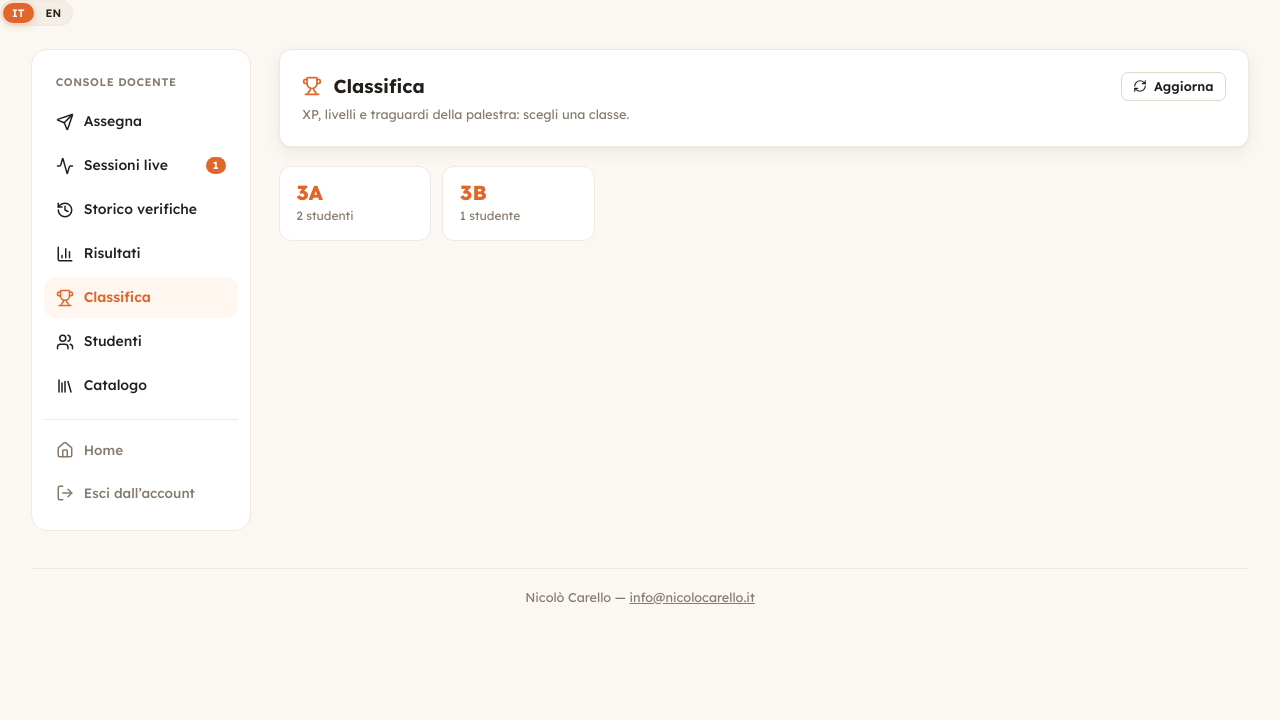
Test: console docente — Classifica › apre il dettaglio di uno studente
Click the button "3A 2 studenti".
click(355, 204)  # box [279,166,431,241]
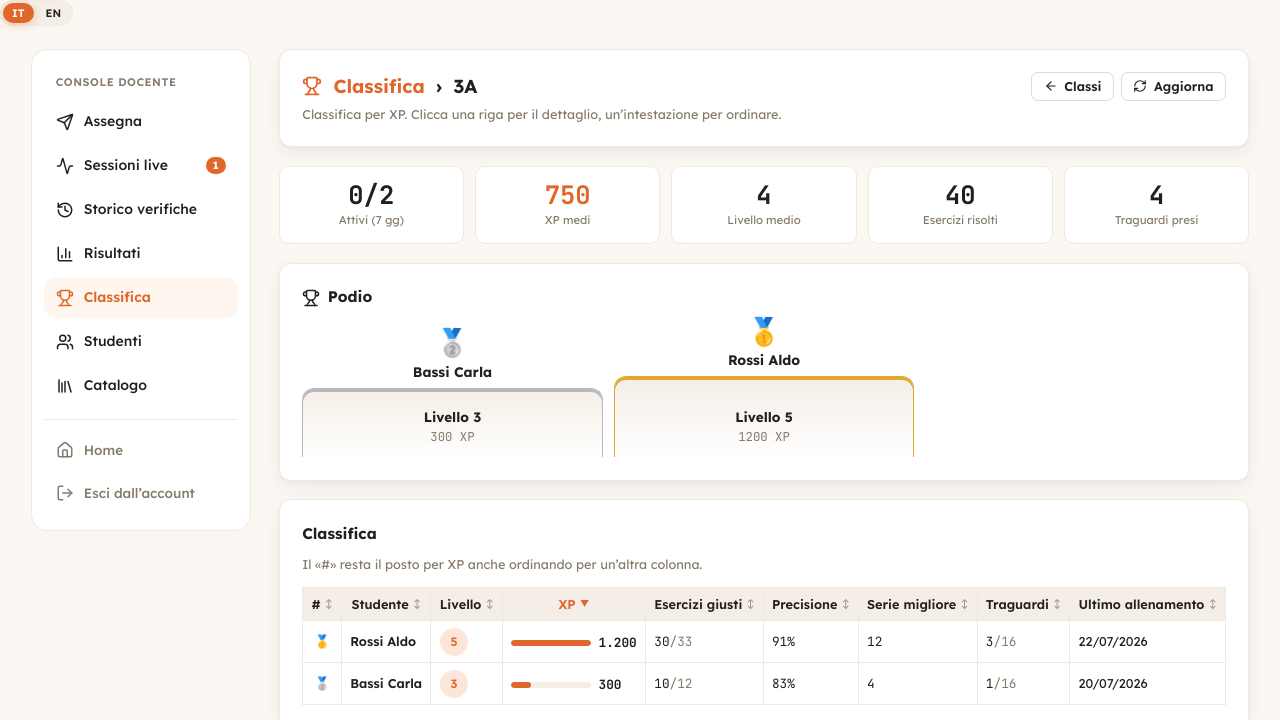
Result: the heading "Podio" is shown at [302,287,372,307]
Click the button with aria-label "Palestra di Rossi Aldo".
click(764, 642)  # box [303,621,1225,663]
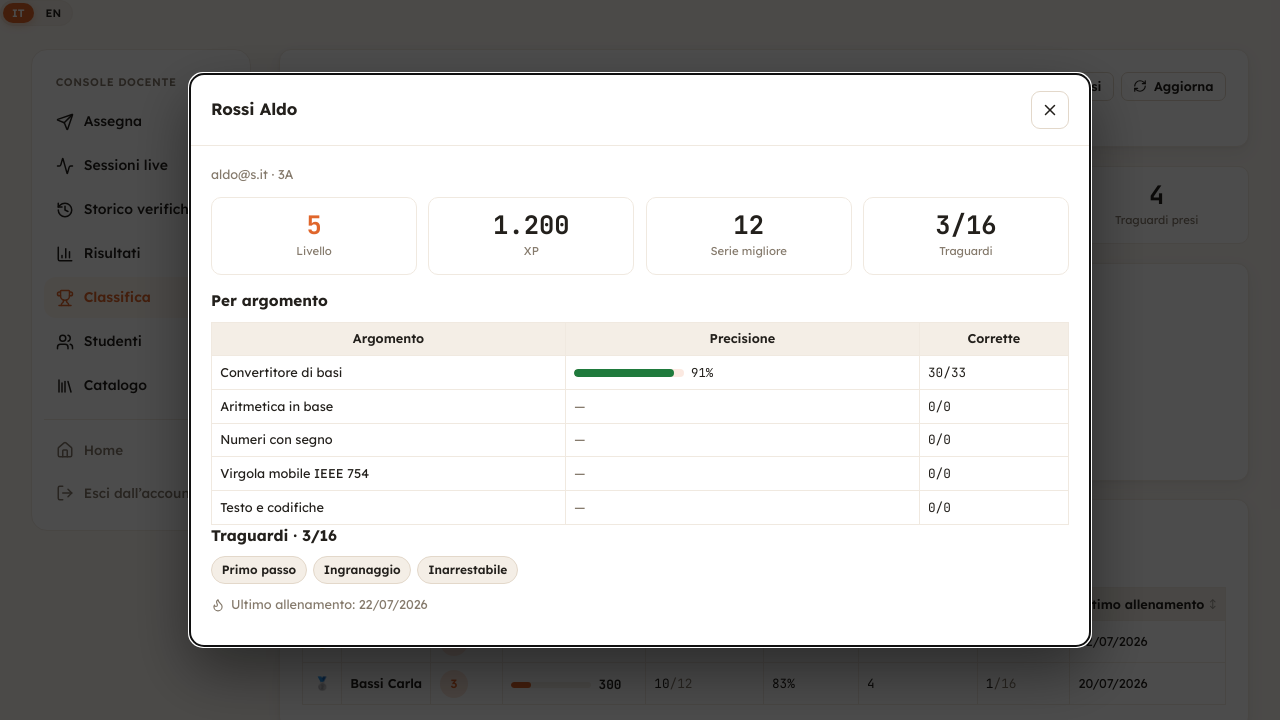
Result: the heading "Per argomento" is shown at [211,291,328,310]
